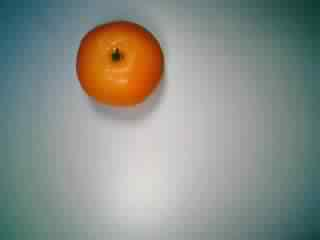orange: (75, 18, 170, 111)
